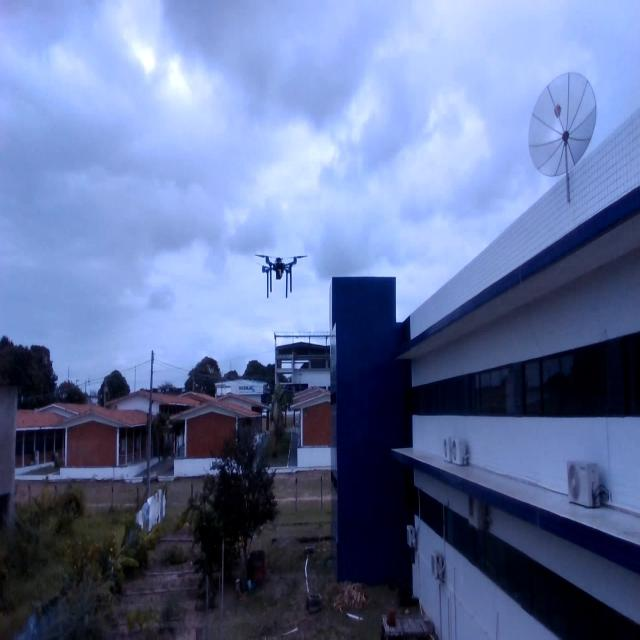-uav-: (246, 240, 313, 316)
